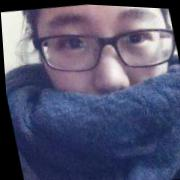WRONG: (32, 2, 180, 161)
